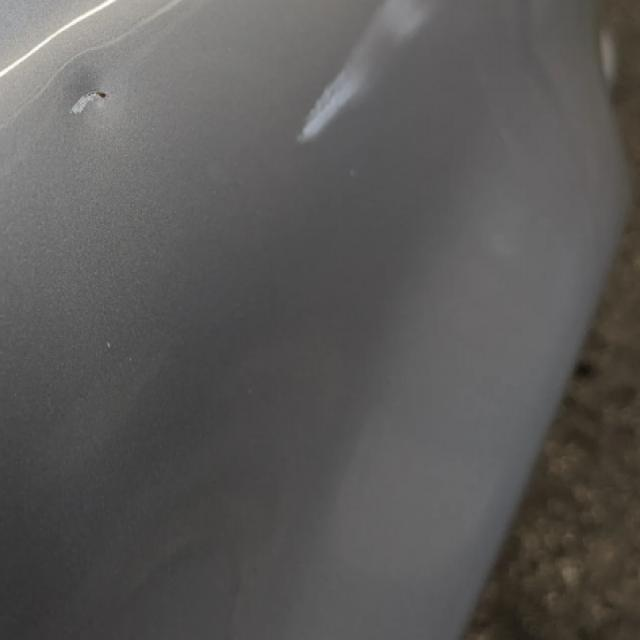dents: (45, 64, 145, 143)
